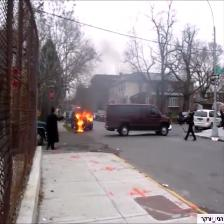fire: (70, 103, 98, 138)
